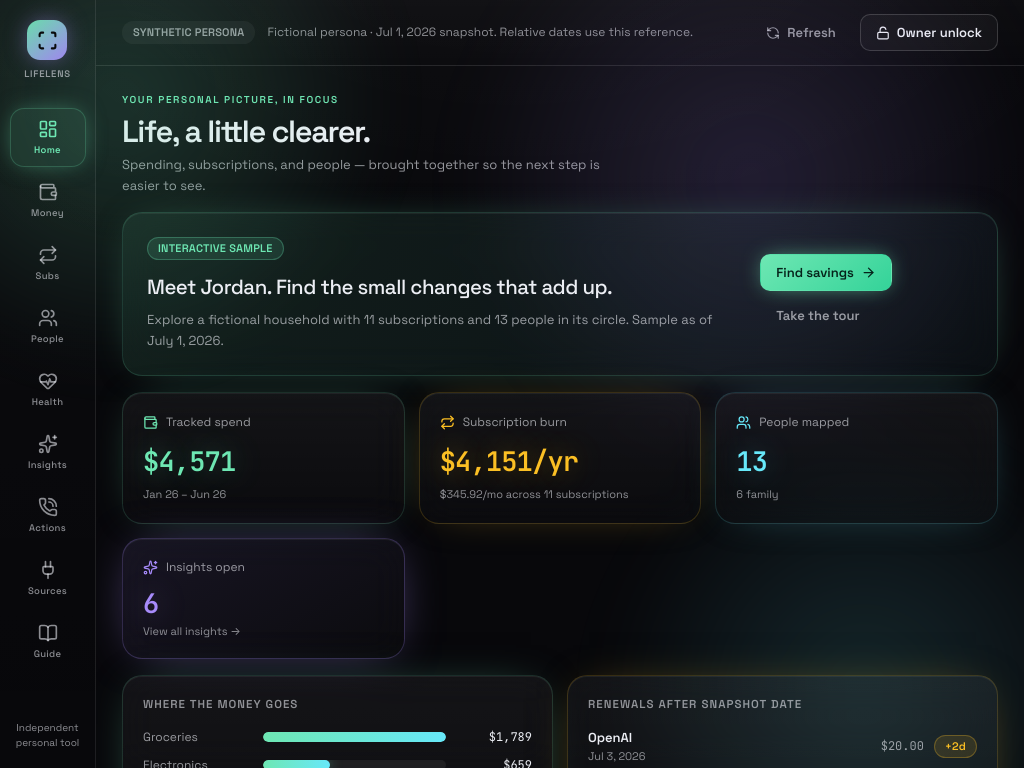
Owner session boundaries › keeps the demo locked when an earlier owner refresh finishes after locking
Click the button with test id "owner-unlock".
click(929, 32)  # box [860,14,998,51]
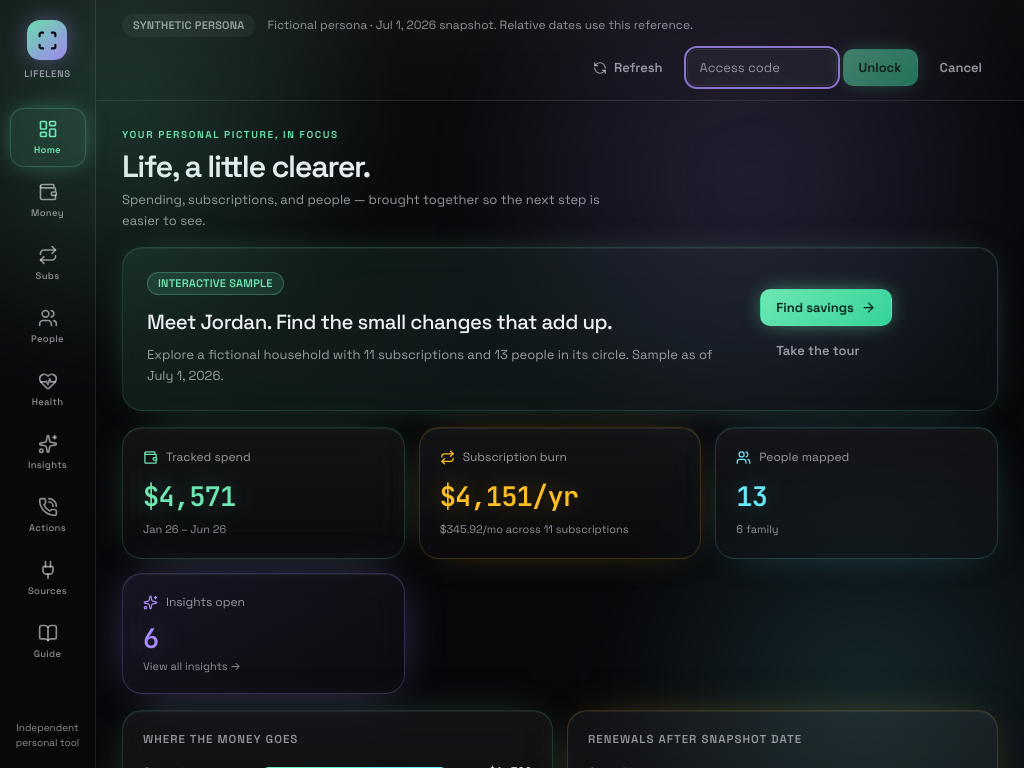
Type "test-only-owner" into the password field labelled "Access code".
click(762, 68); type("test-only-owner")  # box [686,49,836,86]
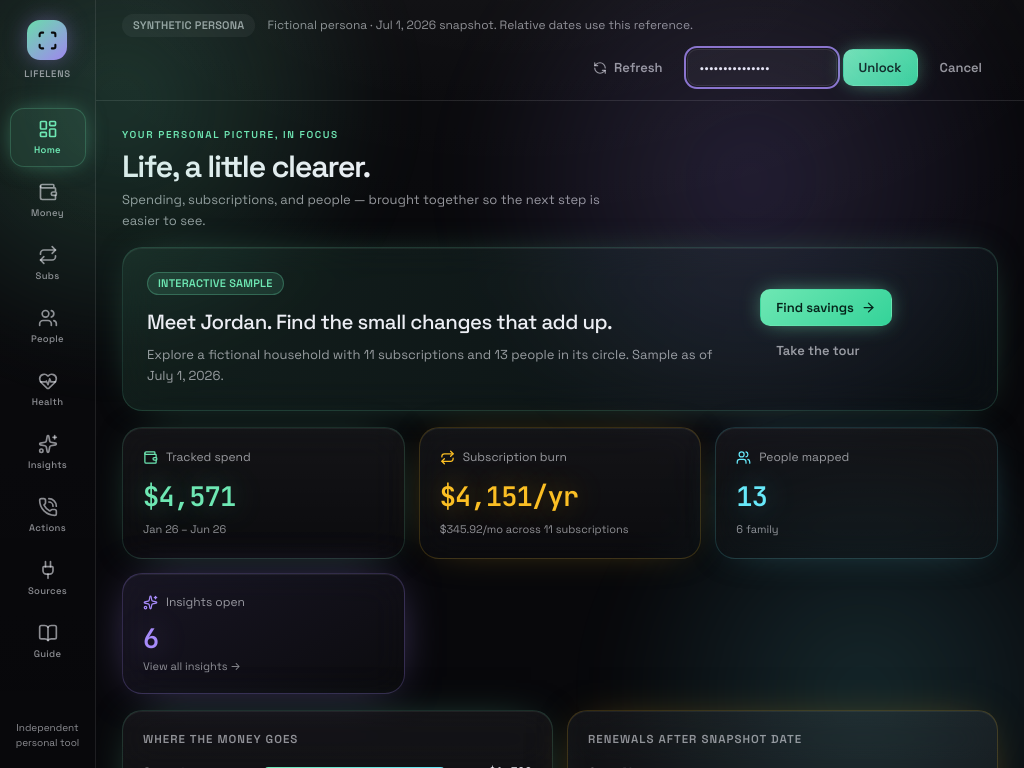
Click the button "Unlock".
click(880, 68)  # box [842,49,918,86]
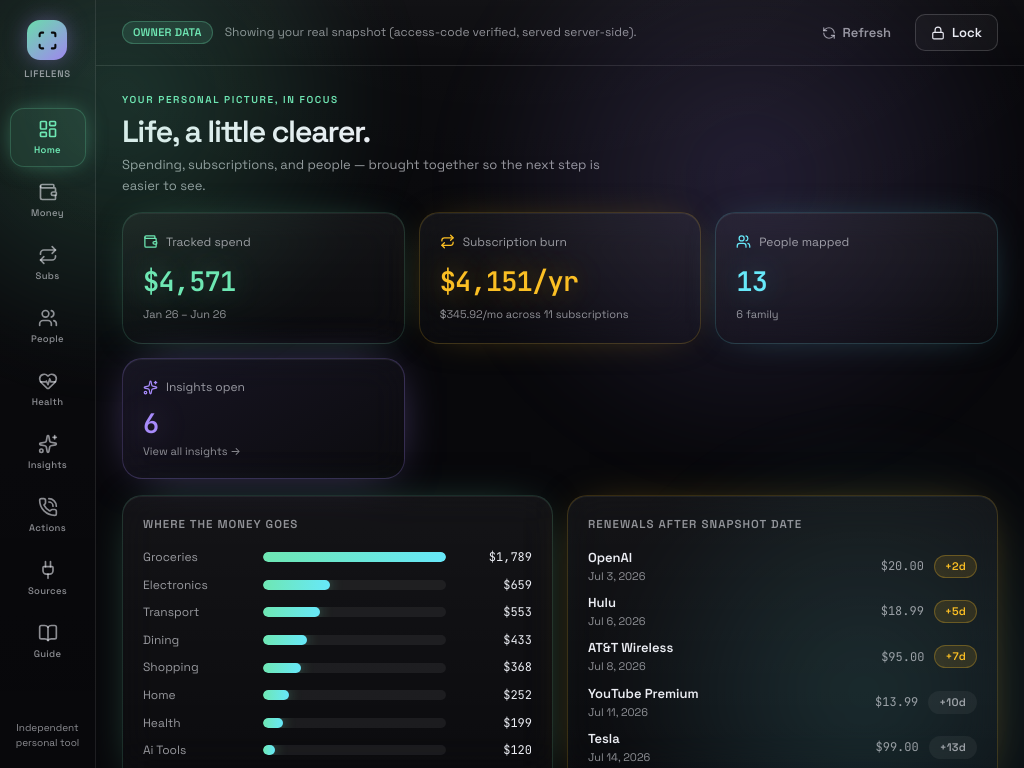
Now the text "OWNER DATA" is shown, box [122,21,213,44]
Click the button with aria-label "Refresh data".
click(856, 32)  # box [806,14,907,51]
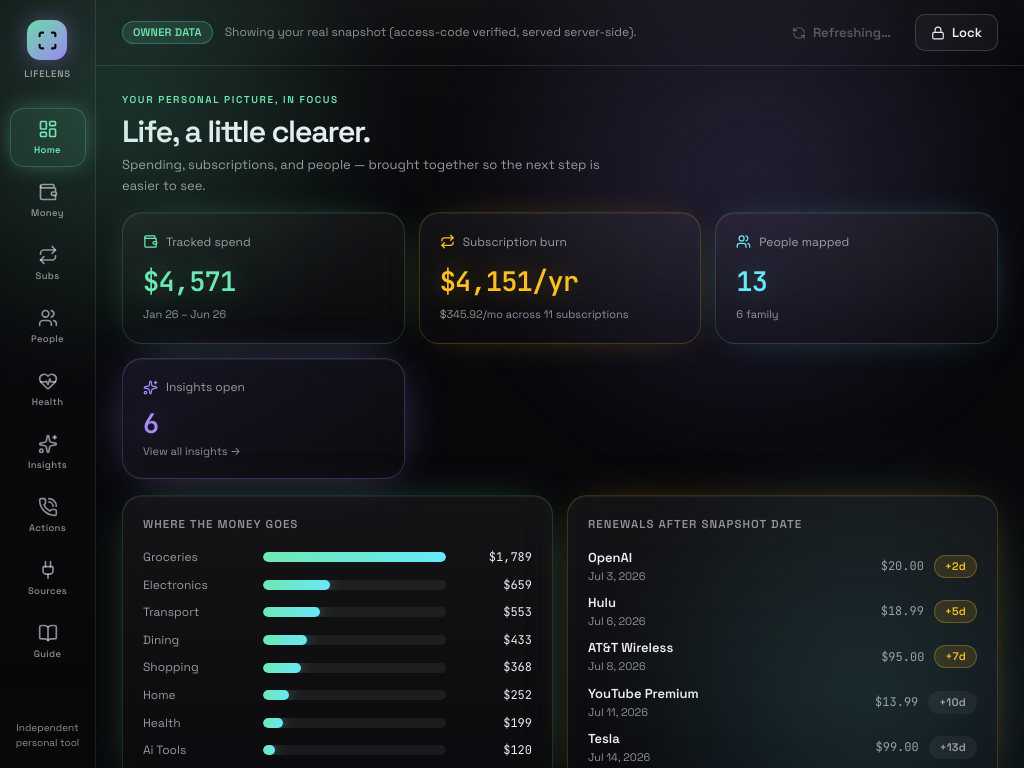
Click the button "Lock".
click(957, 32)  # box [915,14,998,51]
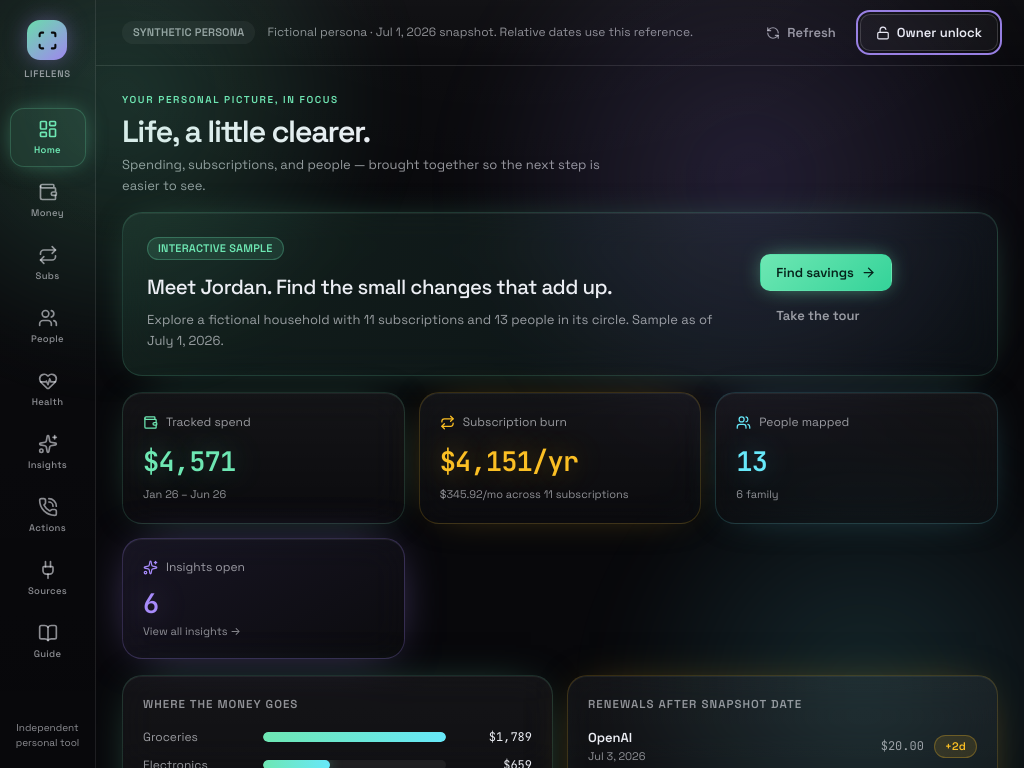
Now the text "SYNTHETIC PERSONA" is shown, box [122,21,256,44]
Now the text "OWNER DATA" is gone
